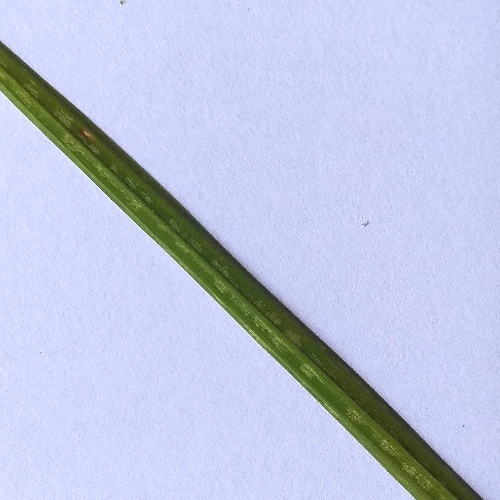Busuk Leher: (77, 119, 98, 147)
